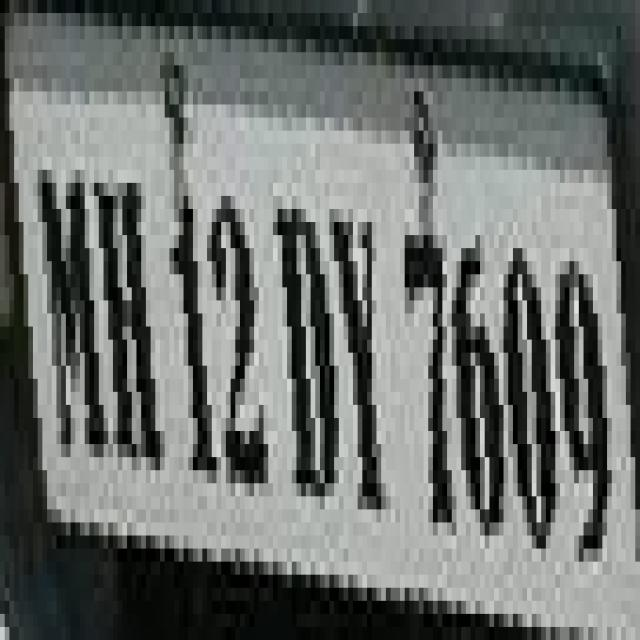license_plate: (14, 78, 640, 614)
